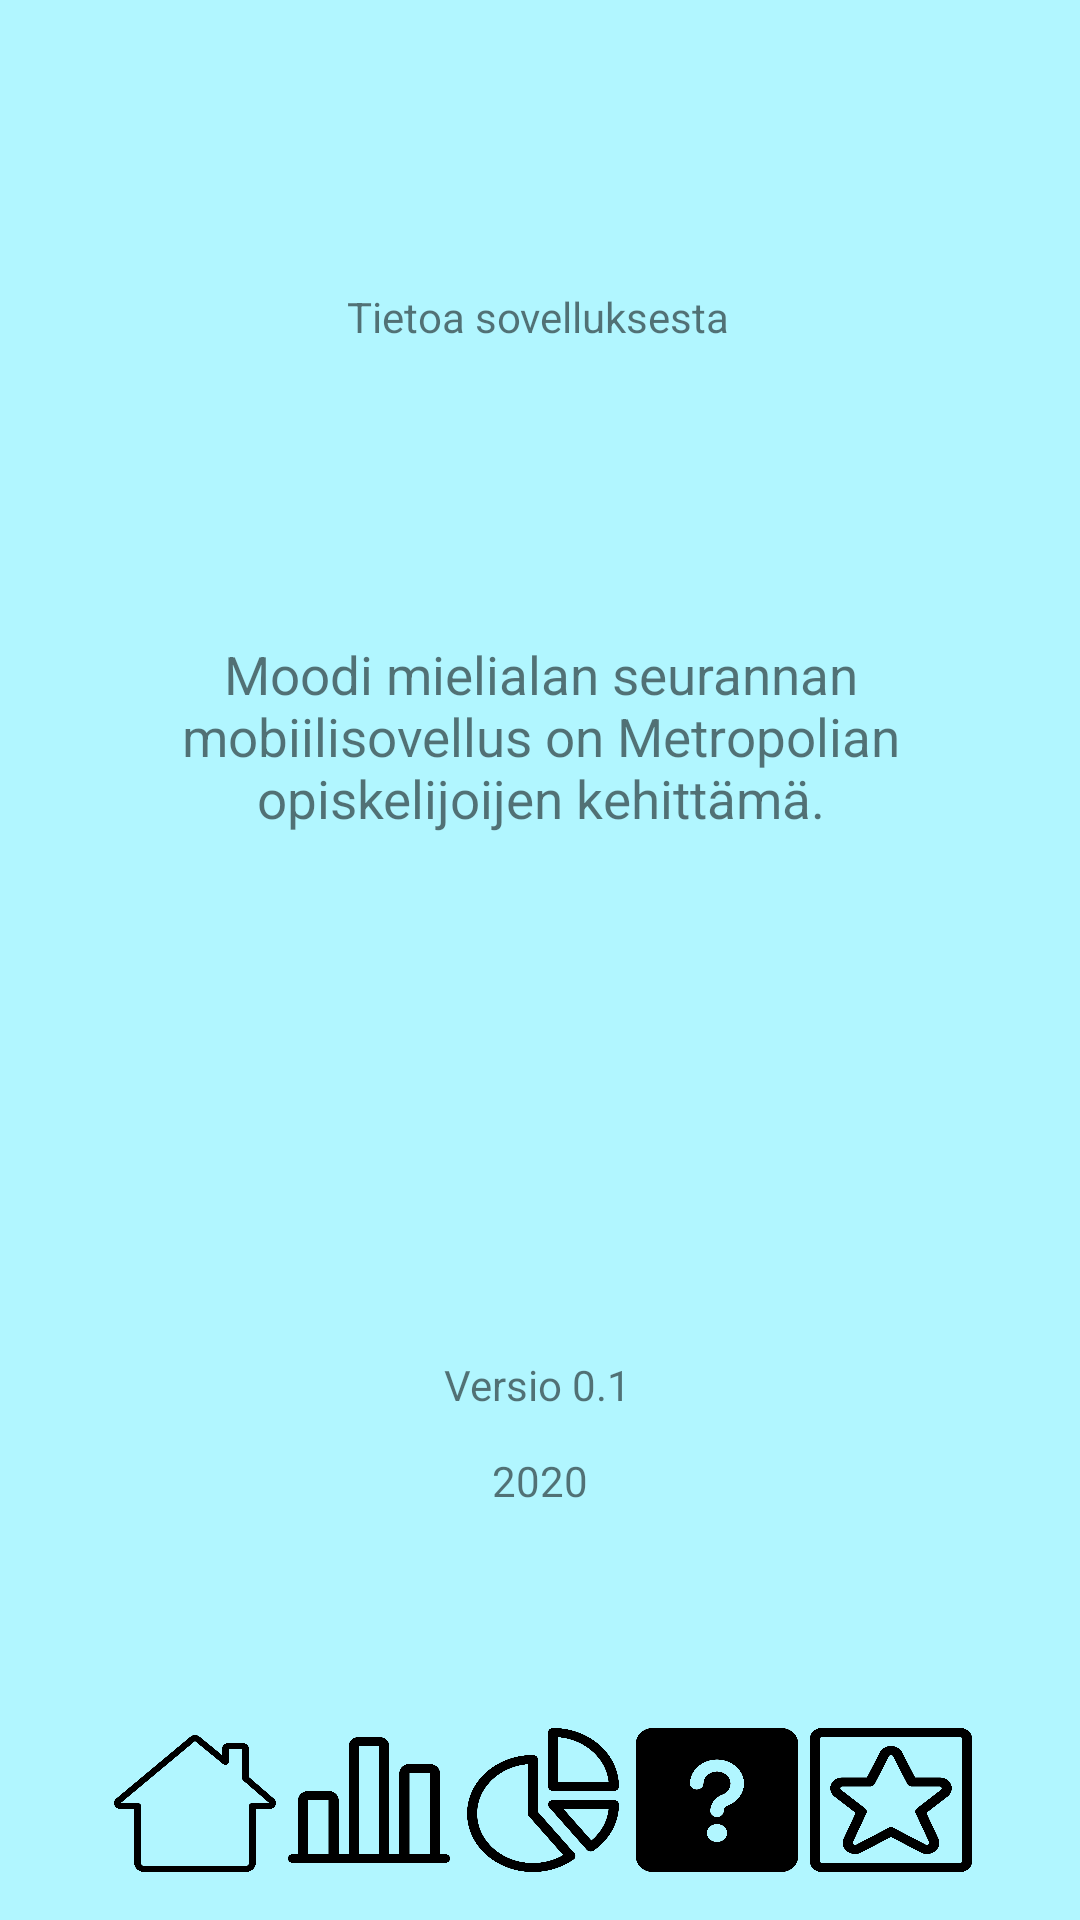

Named icons in this screenshot (1080x1920) and their bounding boxes, (x1, y1, x2, y2):
analytics bars: (288, 1737, 450, 1863)
analytics pie: (467, 1728, 619, 1872)
house chimney: (114, 1735, 276, 1872)
question help square: (636, 1728, 798, 1872)
